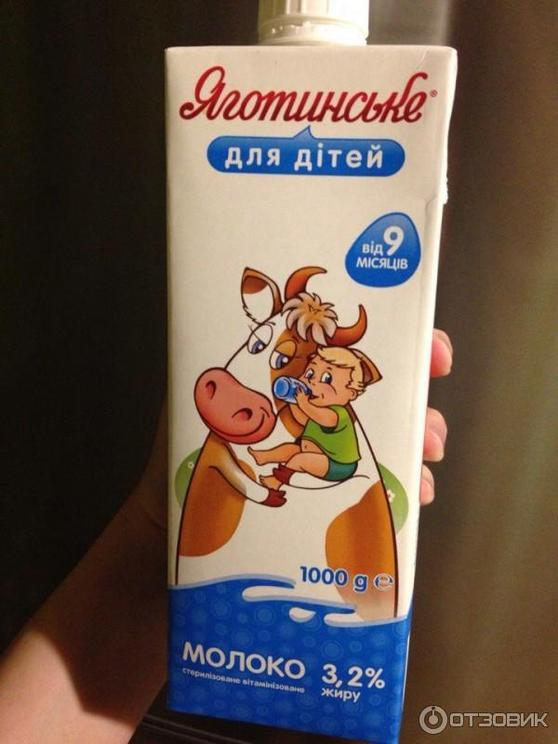milk: (159, 43, 450, 744)
